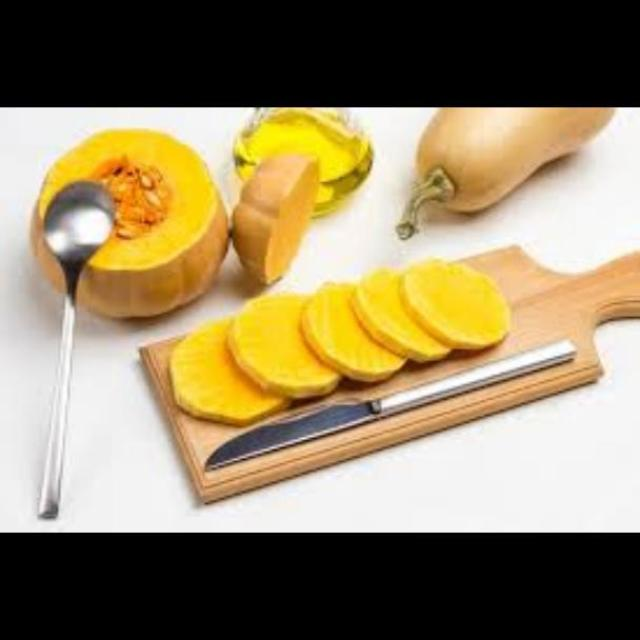Pumpkin: (34, 125, 235, 318), (385, 105, 615, 244), (232, 285, 340, 414), (228, 151, 326, 293), (164, 311, 282, 424), (304, 275, 410, 388), (414, 251, 522, 360), (352, 261, 448, 371)
